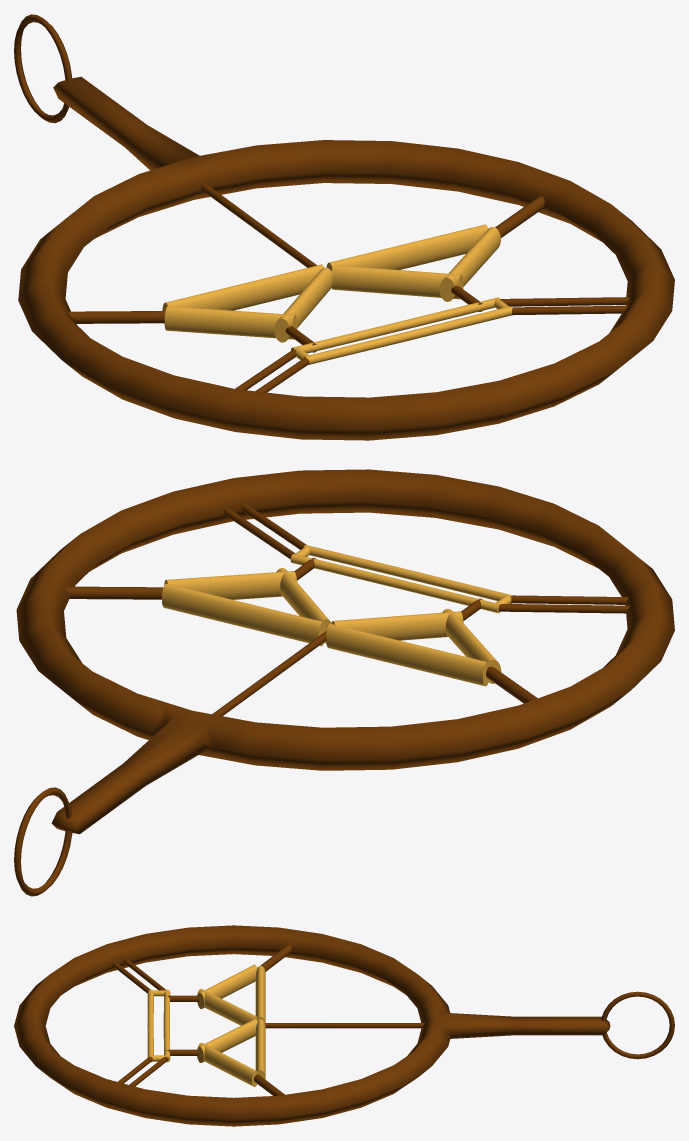
File: lovec2.fbx
3 renders of one model, top to bottom at view 1: azimuth 30°, elevation 25°; view 2: azimuth 150°, elevation 25°; view 3: azimuth 270°, elevation 25°, orthographic. The views are drawn at different scales.
Visible parts, largest first — view 1: Torus.001, Цилиндр.001, Цилиндр.002, Цилиндр.003; view 2: Torus.001, Цилиндр.002, Цилиндр.001, Цилиндр.003; view 3: Torus.001, Цилиндр.001, Цилиндр.002, Цилиндр.003.
Part boxes in pixels (x1,y1,x2,y2): Torus.001: (14, 14, 674, 440); Цилиндр.001: (326, 196, 629, 339); Цилиндр.002: (68, 264, 412, 392); Цилиндр.003: (201, 182, 316, 267); Torus.001: (14, 469, 674, 896); Цилиндр.002: (326, 570, 629, 703); Цилиндр.001: (66, 503, 410, 646); Цилиндр.003: (212, 631, 326, 716); Torus.001: (14, 925, 674, 1126); Цилиндр.001: (118, 1019, 284, 1095); Цилиндр.002: (112, 945, 291, 1025); Цилиндр.003: (265, 1023, 424, 1028).
Size of the model in its own units: 222 by 37.61 by 334.
